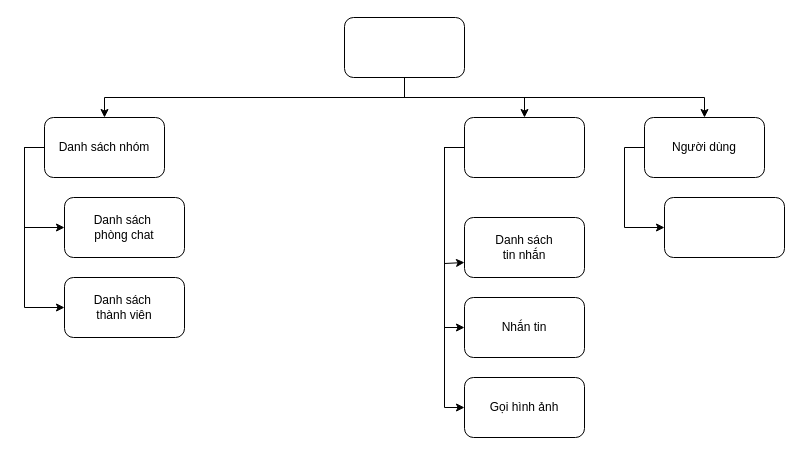
Some shapes in this 802 by 455 pixel diagram are drawn without their labels. Here are the shapes that lost their labels. From the top down, the centre of each, then its label:
the point at 404,47: Trang chủ
the point at 524,147: Phòng chat
the point at 724,227: Sửa thông tin
